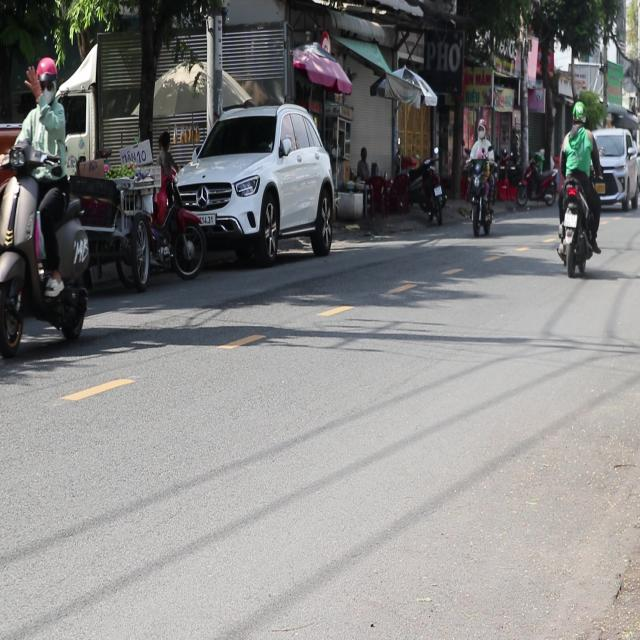helmet: (35, 55, 60, 100), (571, 100, 585, 125)
licenseplate: (0, 52, 93, 359), (554, 100, 602, 276)
nohelmet: (564, 212, 576, 227)
